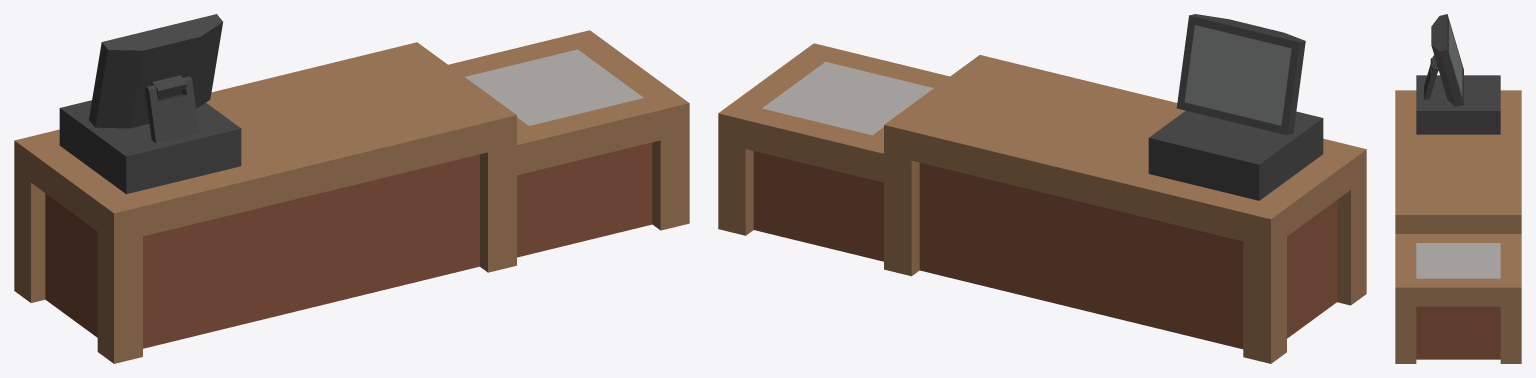
File: Counter01.fbx
3 renders of one model, left to right at view 1: azimuth 30°, elevation 25°; view 2: azimuth 150°, elevation 25°; view 3: azimuth 270°, elevation 25°, orthographic. The views are drawn at different scales.
Visible parts, largest first — view 1: Table_Large, Table_Small, CashRegister; view 2: Table_Large, Table_Small, CashRegister; view 3: Table_Small, Table_Large, CashRegister.
Part boxes in pixels (x1,y1,x2,y2): Table_Large: (14,42,516,363); Table_Small: (448,30,689,257); CashRegister: (59,14,241,194); Table_Large: (884,55,1366,363); Table_Small: (718,43,949,261); CashRegister: (1148,14,1323,200); Table_Small: (1395,234,1521,363); Table_Large: (1395,90,1521,233); CashRegister: (1416,14,1500,134).
Size of the model in its own units: 4 by 1.89 by 1.2.
